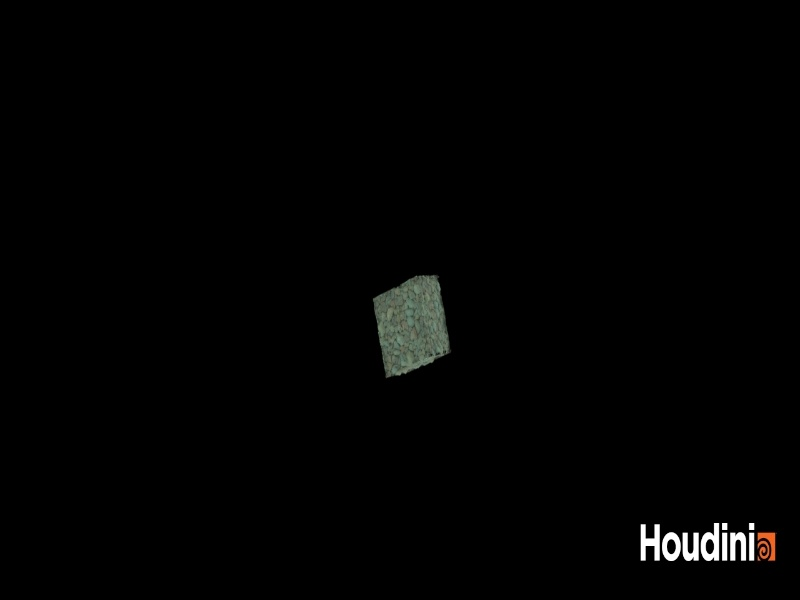waste: (354, 266, 467, 387)
